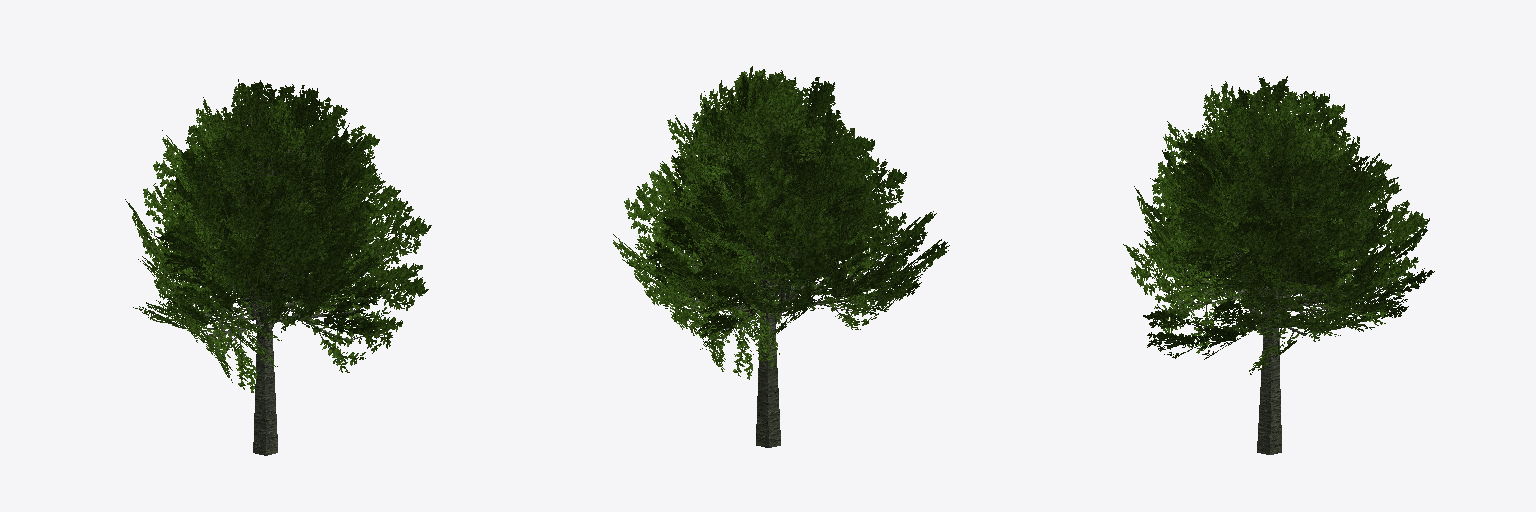
The picture shows the model from 3 angles: view 1: azimuth 30°, elevation 25°; view 2: azimuth 150°, elevation 25°; view 3: azimuth 270°, elevation 25°; orthographic projection.
Visible parts, largest first — view 1: Default; view 2: Default; view 3: Default.
Boxes of the visible parts, box(x1,y1,x2,y2) form: Default: box(125, 79, 431, 455); Default: box(613, 66, 949, 447); Default: box(1123, 76, 1434, 454).
Size of the model in its own units: 14.75 by 15.02 by 13.99.
Materials: 2 (2 with a texture image).